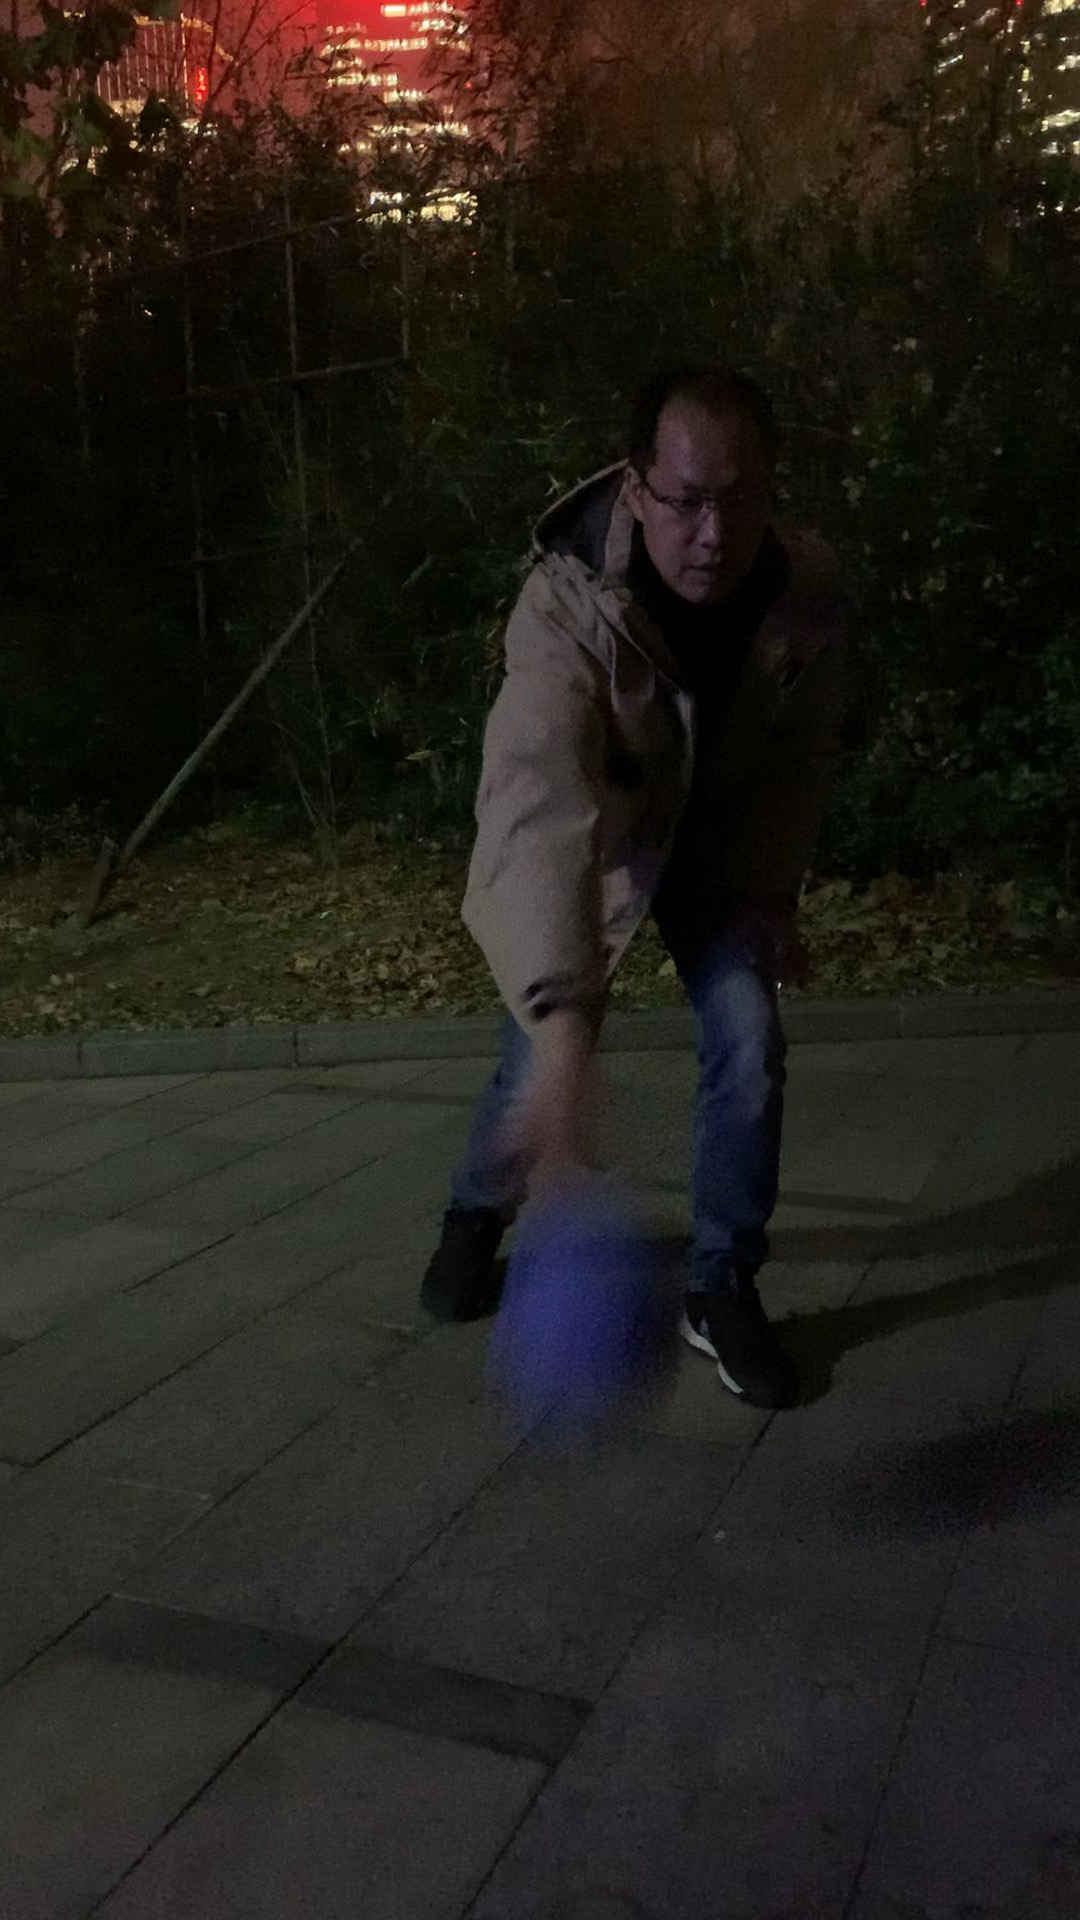ball: (493, 1244, 688, 1427)
